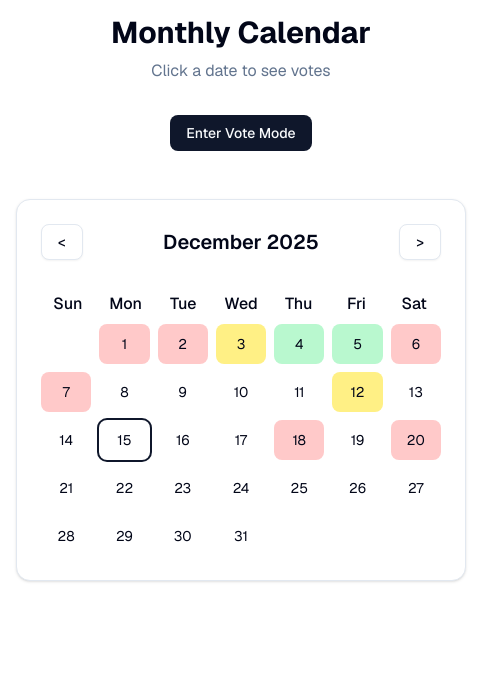
Test: CalendarPage › clears vote mode and selected date when exiting vote mode
This screenshot has width=483, height=680.
// Enter Vote Mode
Click the button "Enter Vote Mode" at (241, 133), box [170,115,312,151]
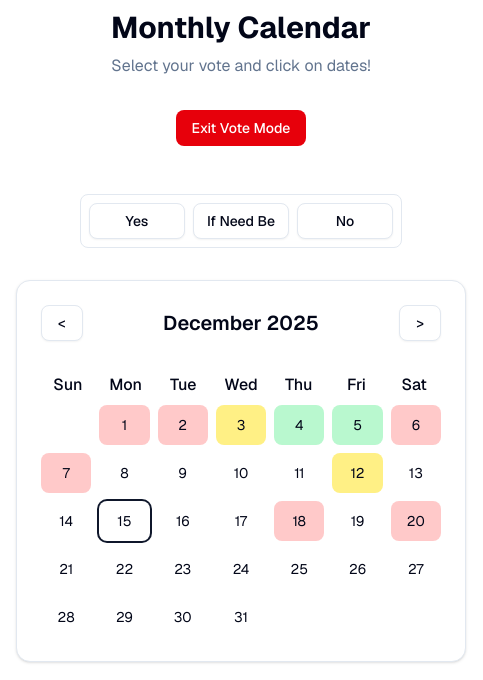
Click the button "Yes" at (137, 221), box [89,203,185,239]
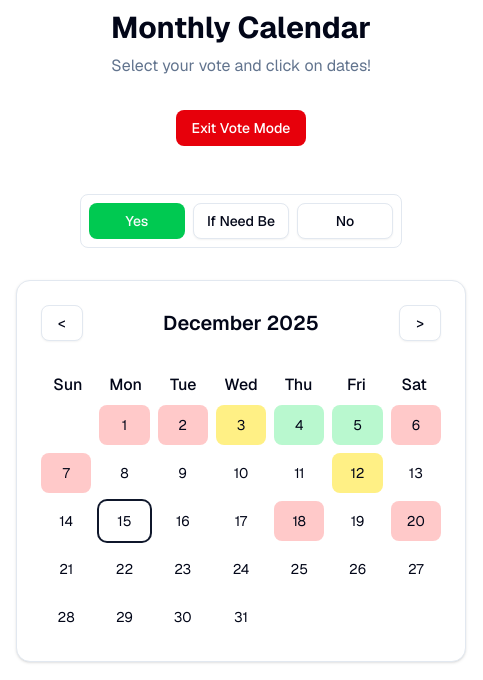
// Click a date to select it and trigger vote (also sets selectedDate to null)
Click the button named "View votes for December 22" at (124, 569), box [99,549,150,589]
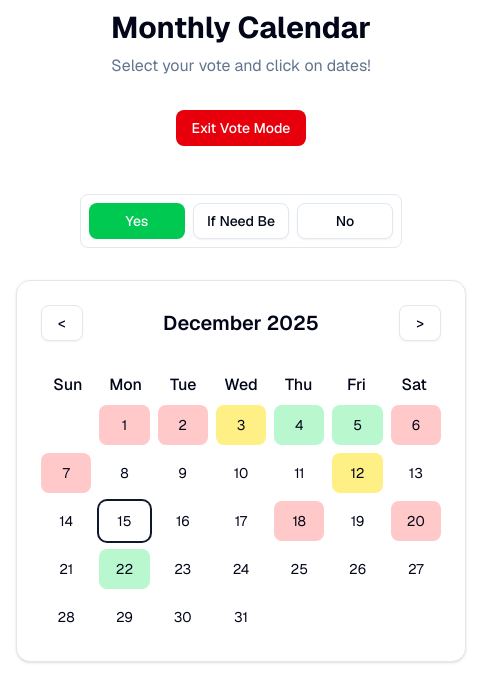
// Now exit vote mode
Click the button "Exit Vote Mode" at (241, 128), box [176,110,306,146]
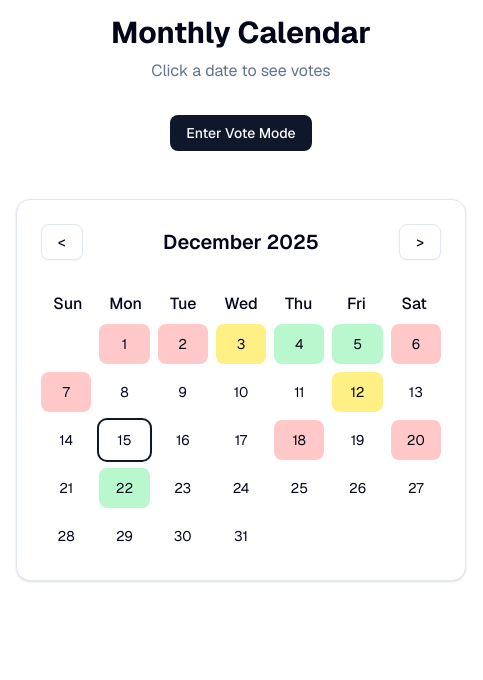
Expected: the button "Yes" is gone
